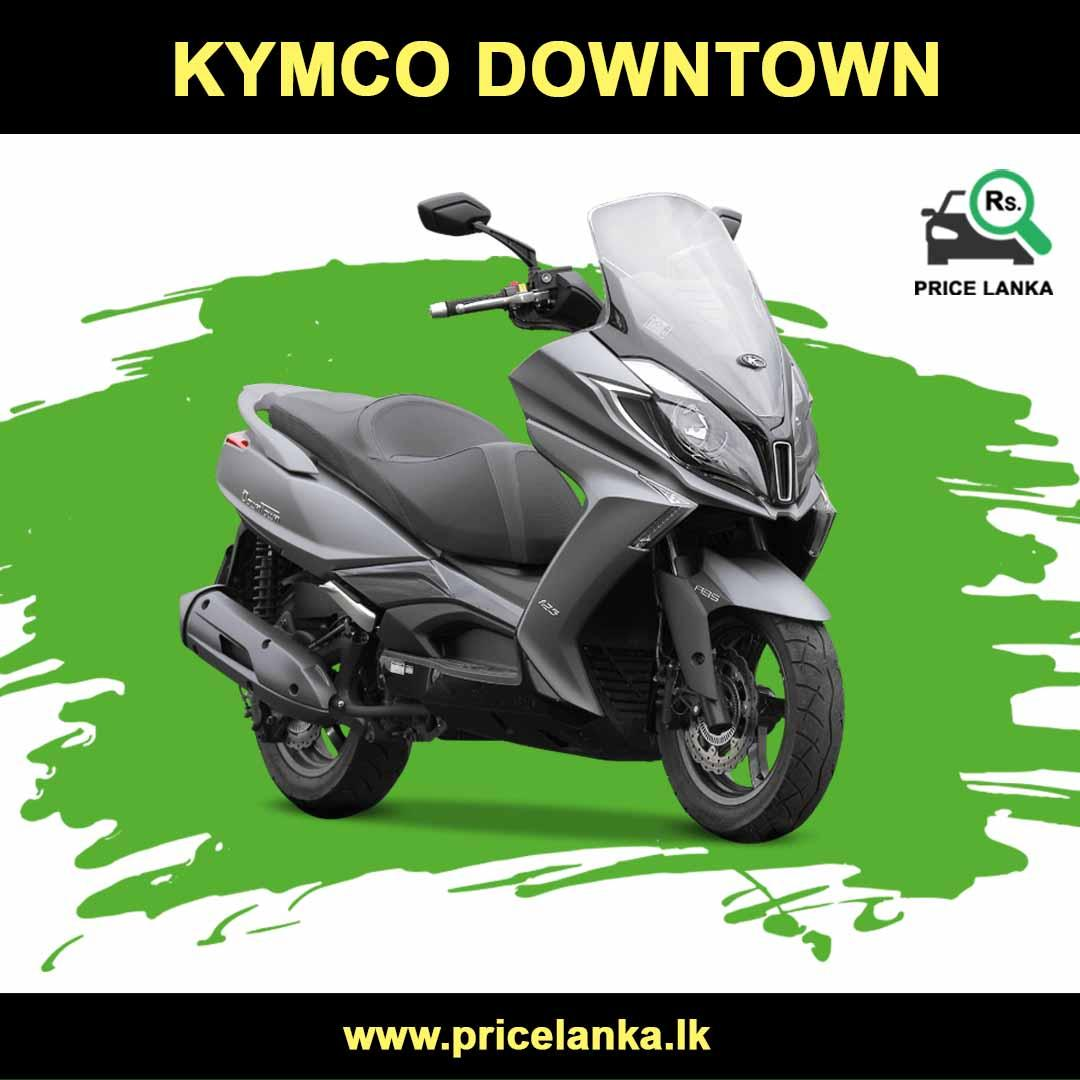motorbike: (176, 194, 846, 843)
